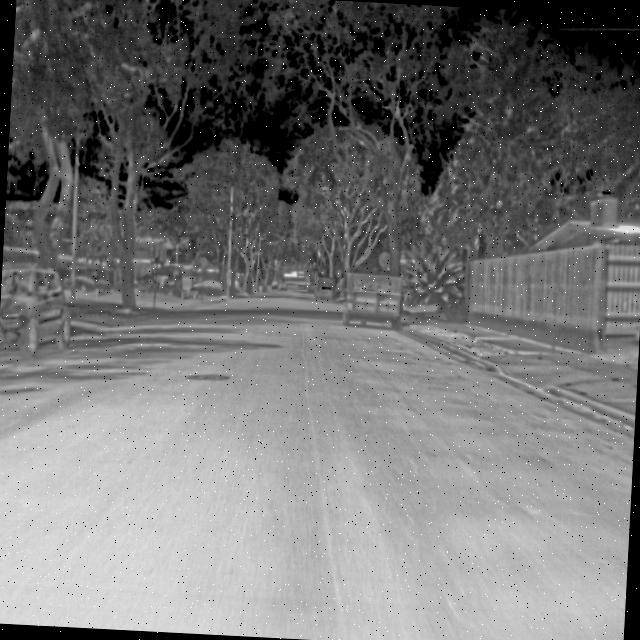Vehicle: (0, 260, 77, 365), (338, 270, 404, 330)
